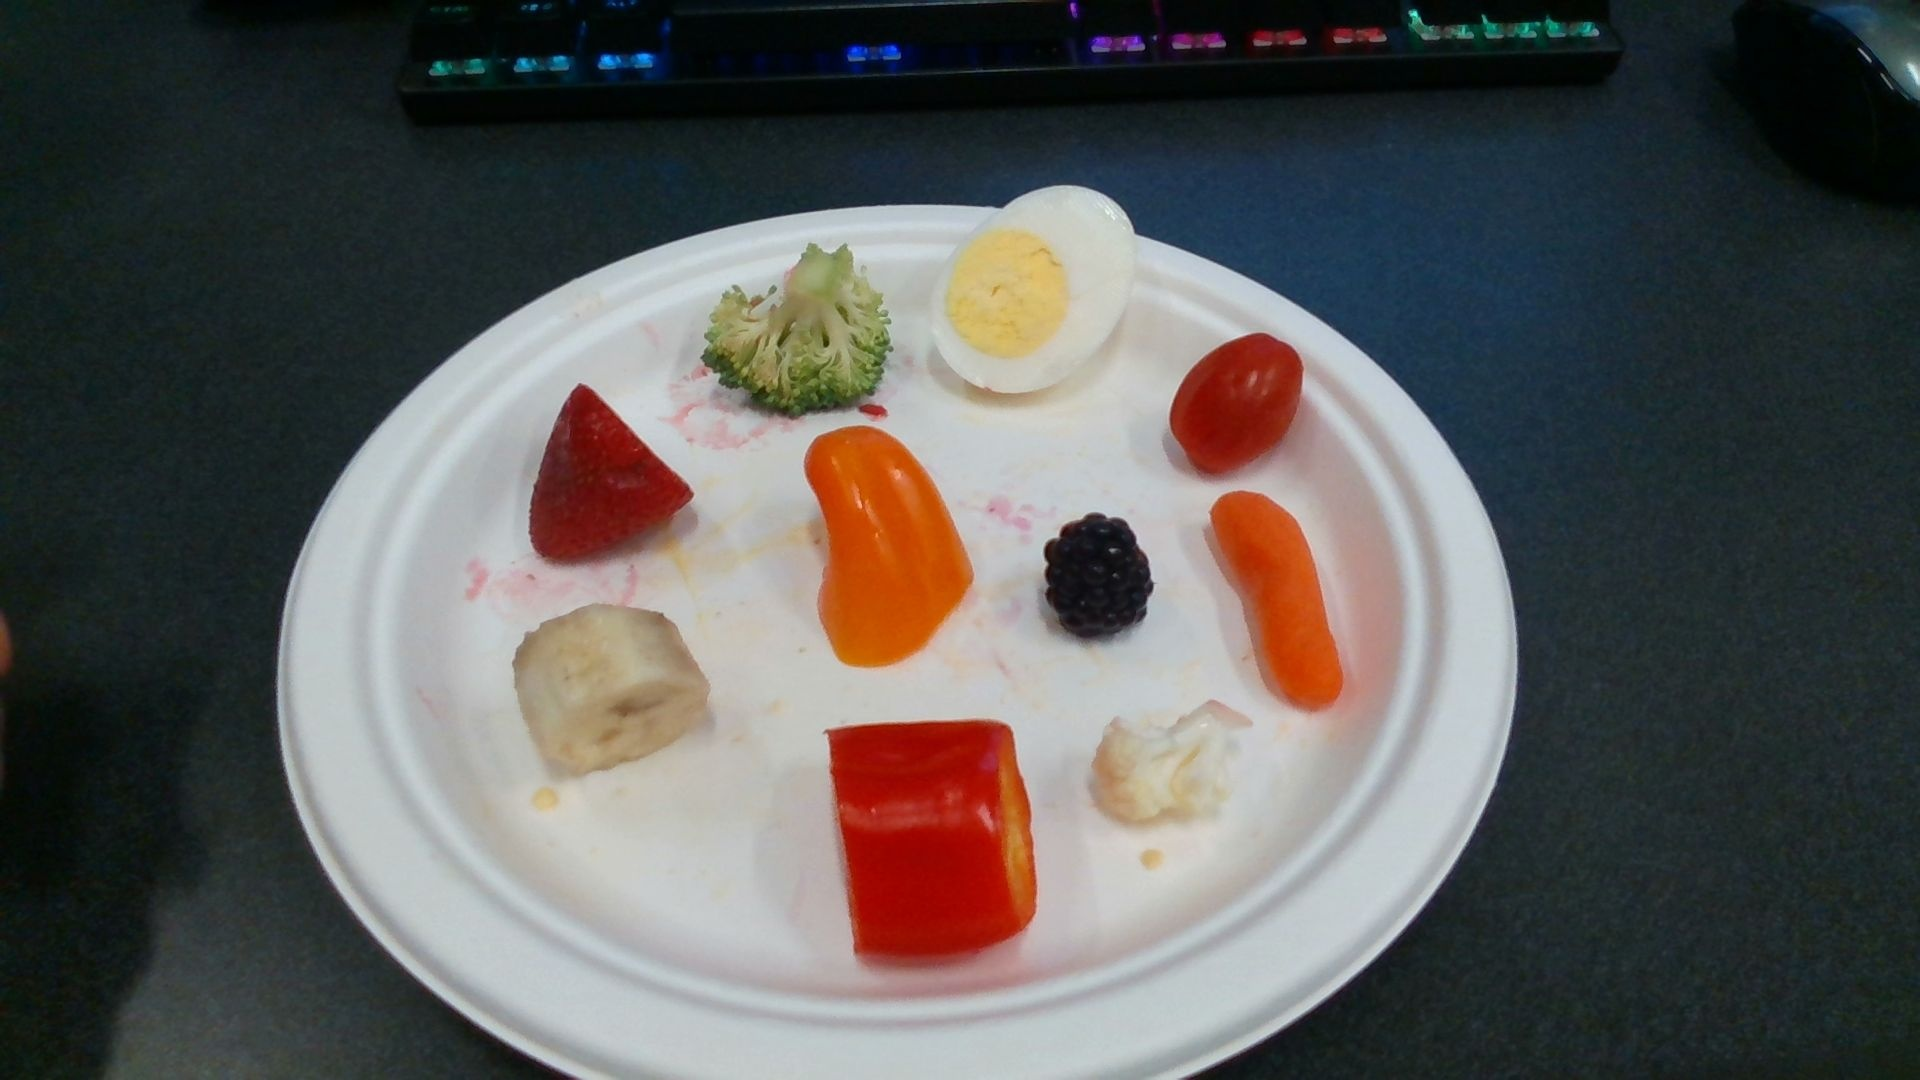banana: (512, 607, 707, 775)
bell_pepper: (822, 720, 1035, 967), (804, 430, 975, 665)
blackberry: (1044, 518, 1153, 640)
broccoli: (705, 243, 887, 411)
carrot: (1211, 493, 1344, 708)
cauliflower: (1095, 705, 1249, 823)
cherry_tomato: (1164, 336, 1302, 473)
egg: (932, 183, 1139, 396)
strawberry: (530, 385, 690, 560)
